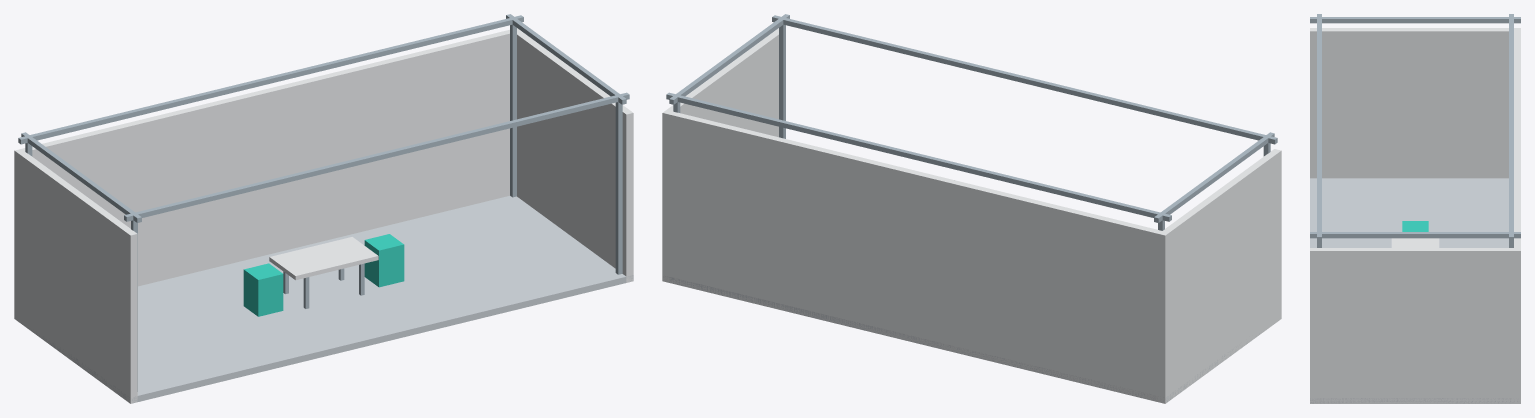
The picture shows the model from 3 angles, left to right: view 1: azimuth 30°, elevation 25°; view 2: azimuth 150°, elevation 25°; view 3: azimuth 270°, elevation 25°; orthographic projection. The views are drawn at different scales.
Visible parts, largest first — view 1: Exhibition Booth Concept; view 2: Exhibition Booth Concept; view 3: Exhibition Booth Concept.
Boxes of the visible parts, x1,y1,x2,y2 form: Exhibition Booth Concept: [14, 14, 633, 403]; Exhibition Booth Concept: [662, 14, 1281, 403]; Exhibition Booth Concept: [1310, 14, 1520, 403].
Bounding box in the file's own units: 10 × 3.49 × 4.
